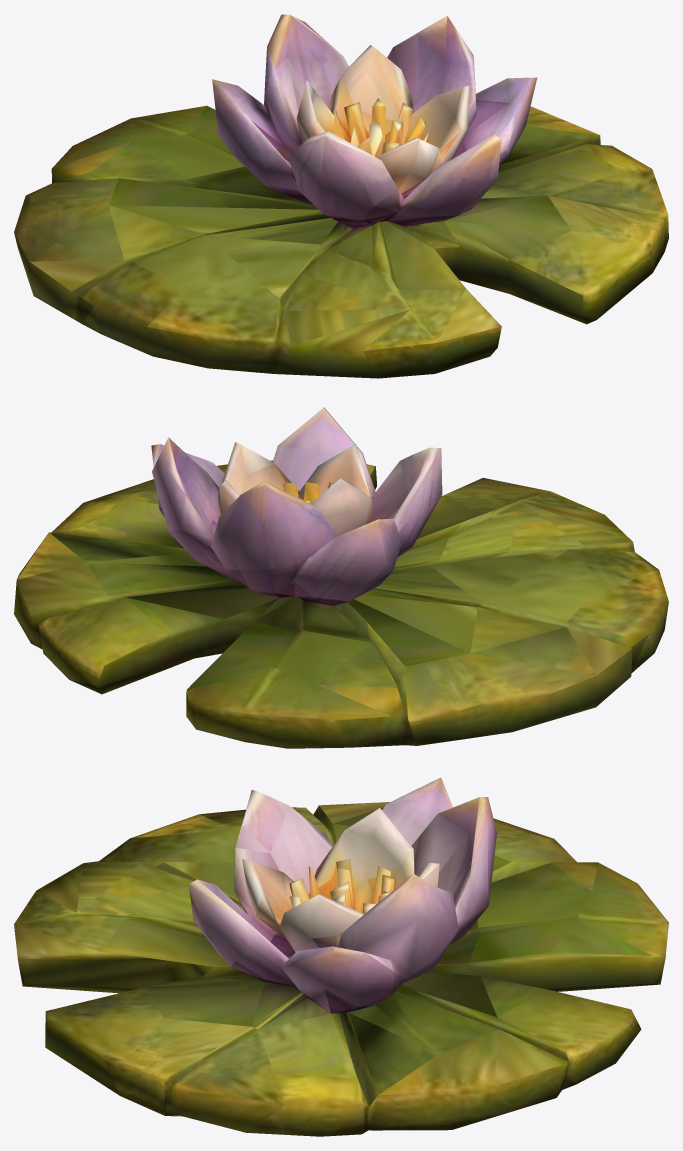
Rendered from lily_pad.glb.
3 views of the same model, one above another, from view 1: azimuth 30°, elevation 25°; view 2: azimuth 150°, elevation 25°; view 3: azimuth 270°, elevation 25° (orthographic). The views are drawn at different scales.
Parts seen in each view (by area): view 1: tripo_node_31490449-9982-458e-818c-7696d51875d4; view 2: tripo_node_31490449-9982-458e-818c-7696d51875d4; view 3: tripo_node_31490449-9982-458e-818c-7696d51875d4.
Boxes of the visible parts, x1,y1,x2,y2 form: tripo_node_31490449-9982-458e-818c-7696d51875d4: [14, 14, 668, 378]; tripo_node_31490449-9982-458e-818c-7696d51875d4: [14, 407, 668, 748]; tripo_node_31490449-9982-458e-818c-7696d51875d4: [14, 777, 668, 1136].
Bounding box in the file's own units: 0.45 × 0.1417 × 0.4174.
Materials: 1 (1 with a texture image).
